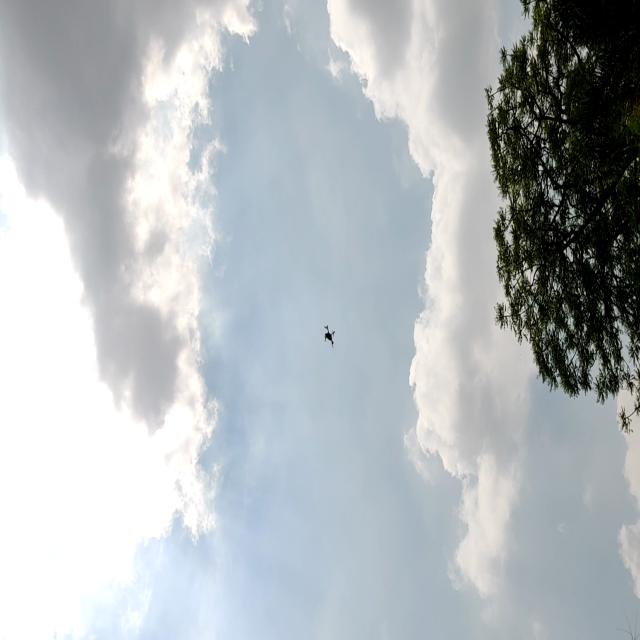drone: (320, 318, 338, 353)
